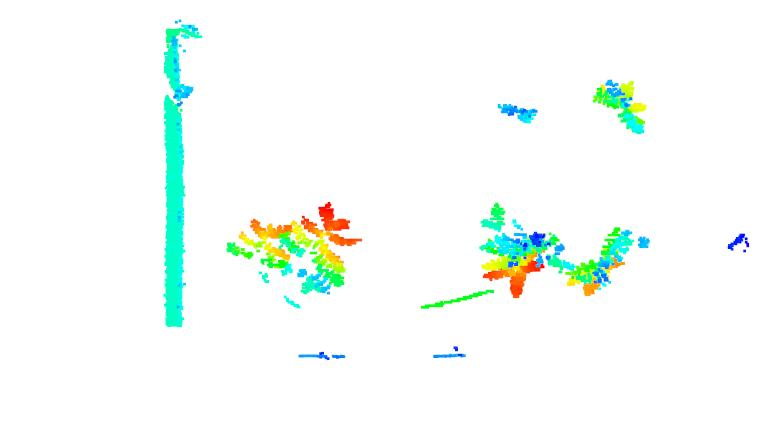chickpea: (279, 201, 365, 308), (479, 205, 557, 297), (557, 229, 641, 296), (225, 218, 295, 273), (592, 76, 648, 136), (494, 99, 540, 123)
